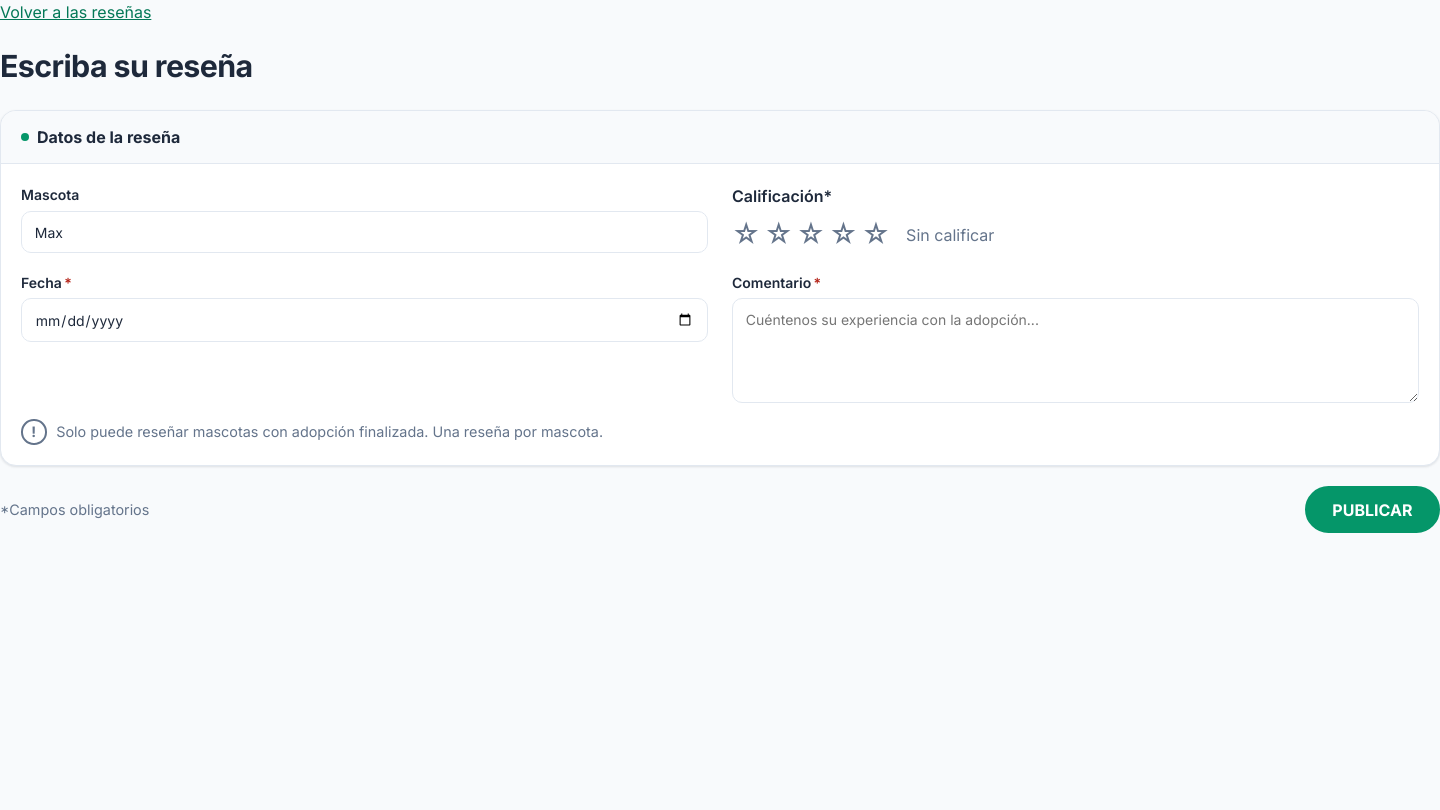
Test: WriteReviewPage › shows the back-end error and stays on the form
The width and height of the screenshot is (1440, 810).
Expected: the form named "Escritura de reseña" is shown, 0,110 -> 1439,533
Click the radio button named "5 estrellas".
click(876, 235)  # box 862,221 -> 890,248
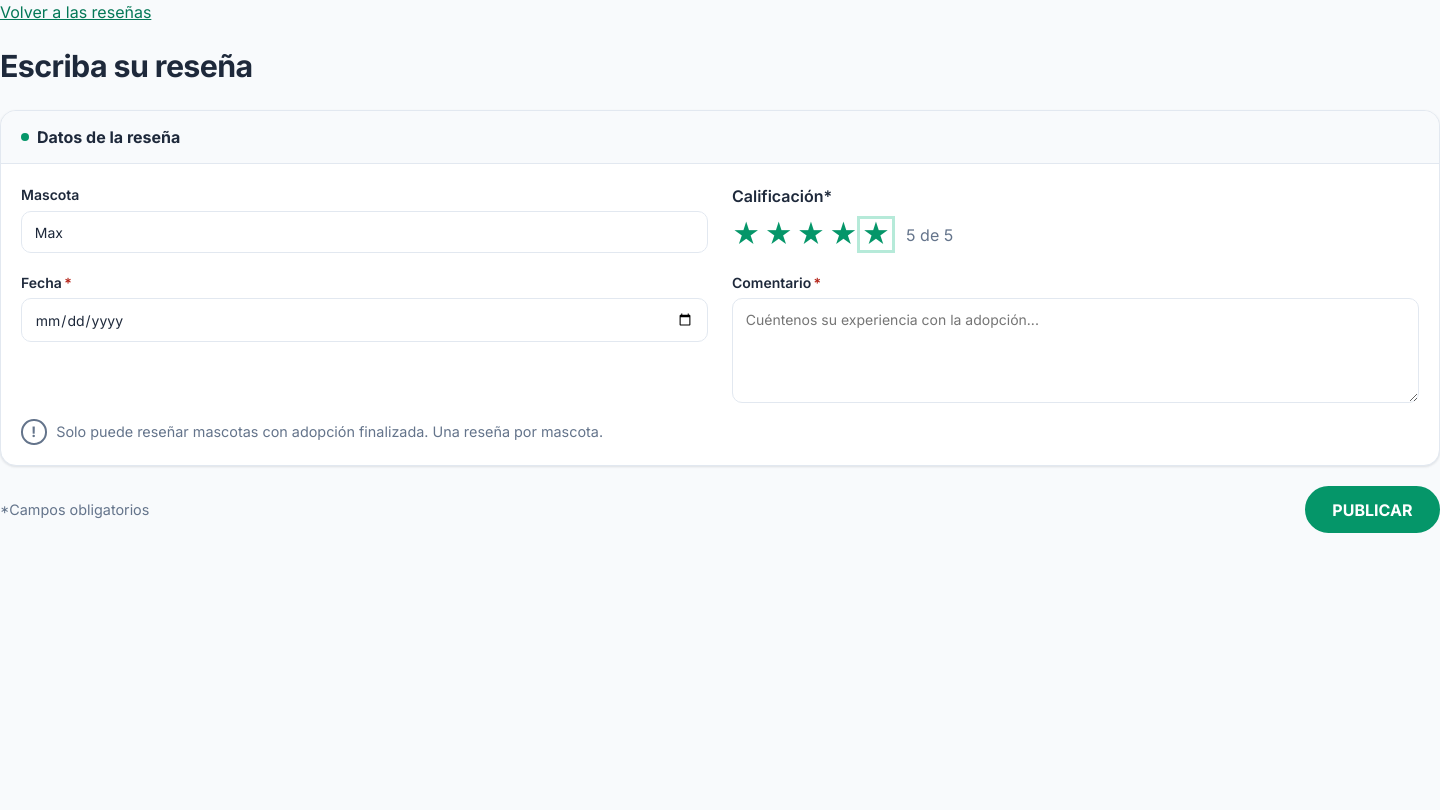
Type "2026-09-05" into the date field labelled "Fecha*".
click(364, 320); type("2026-09-05")  # box 21,298 -> 708,342
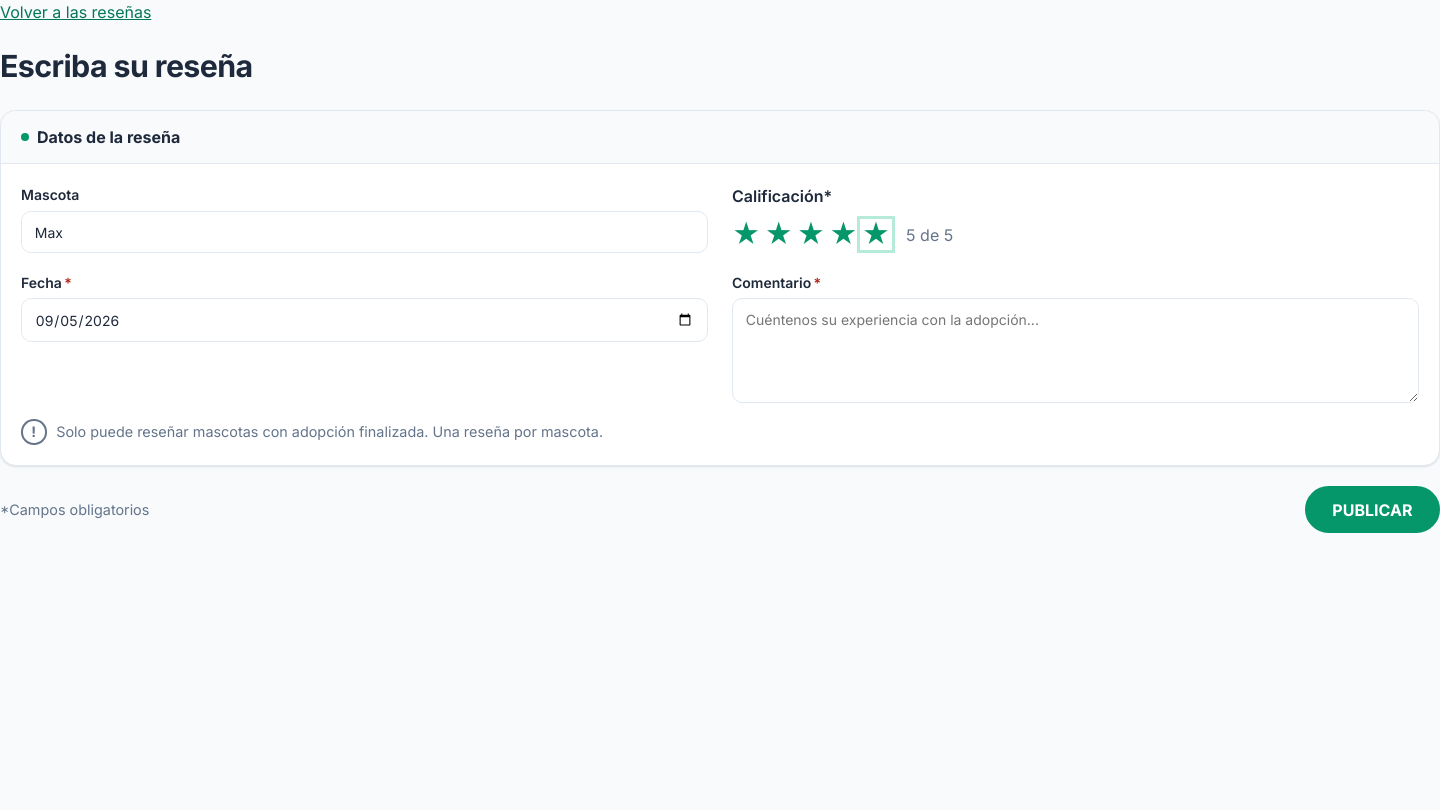
Type "Gracias por todo" into the text box labelled "Comentario".
click(1076, 351); type("Gracias por todo")  # box 732,298 -> 1419,403
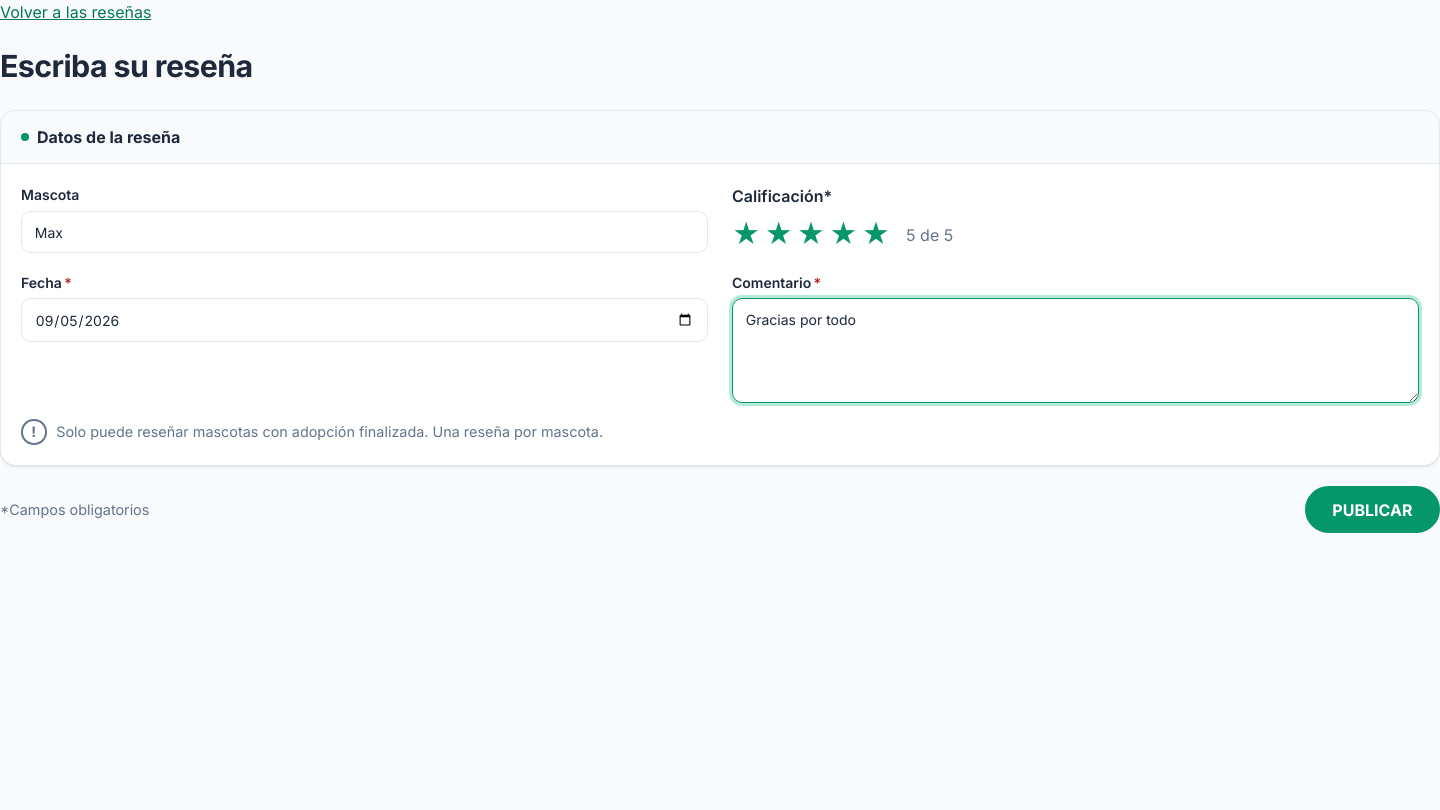
Click the button "Publicar".
click(1372, 510)  # box 1305,486 -> 1439,533
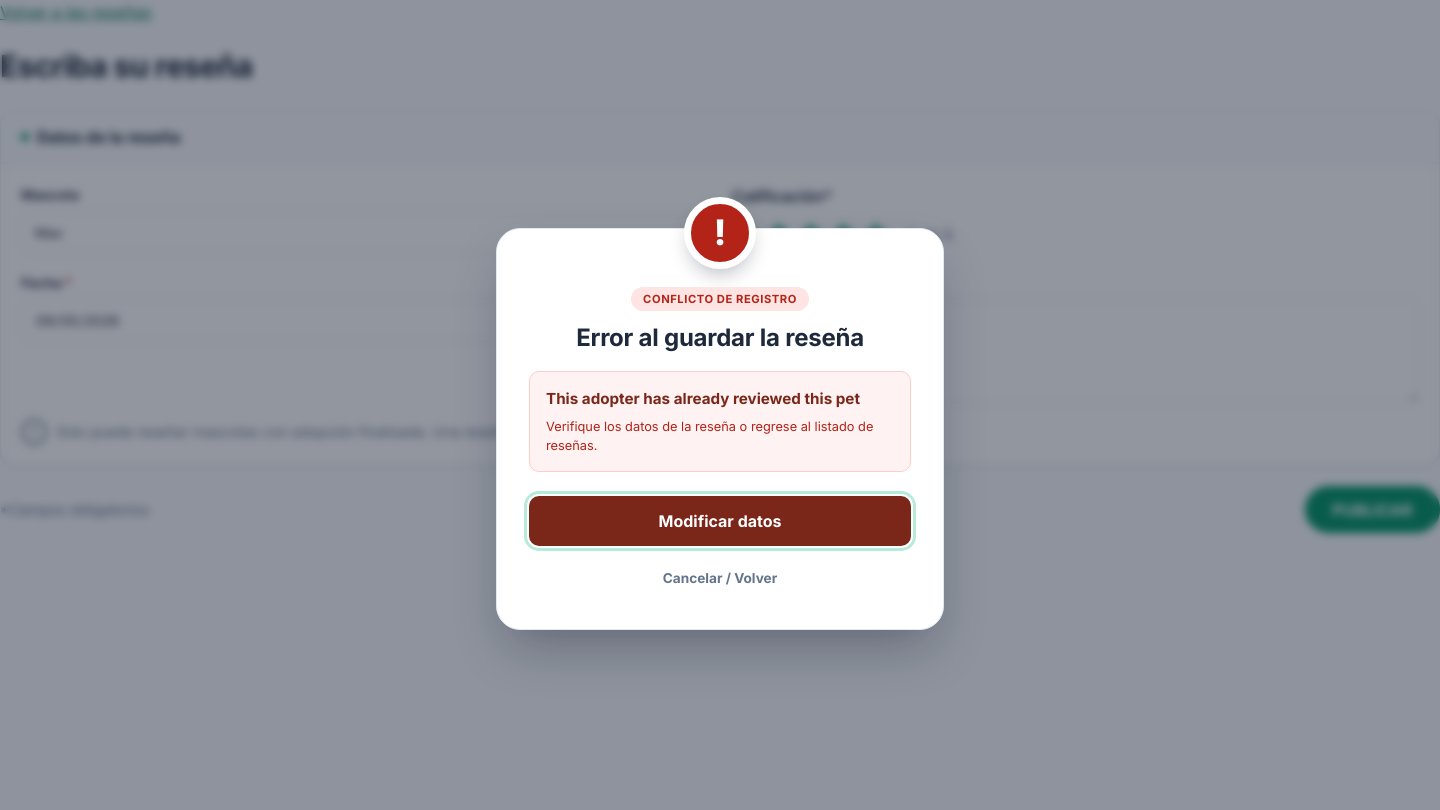
Expected: the dialog shows "already reviewed", 546,389 -> 860,408
